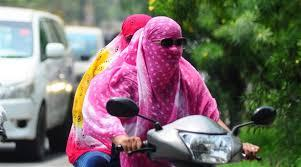helmet: (119, 12, 151, 35)
